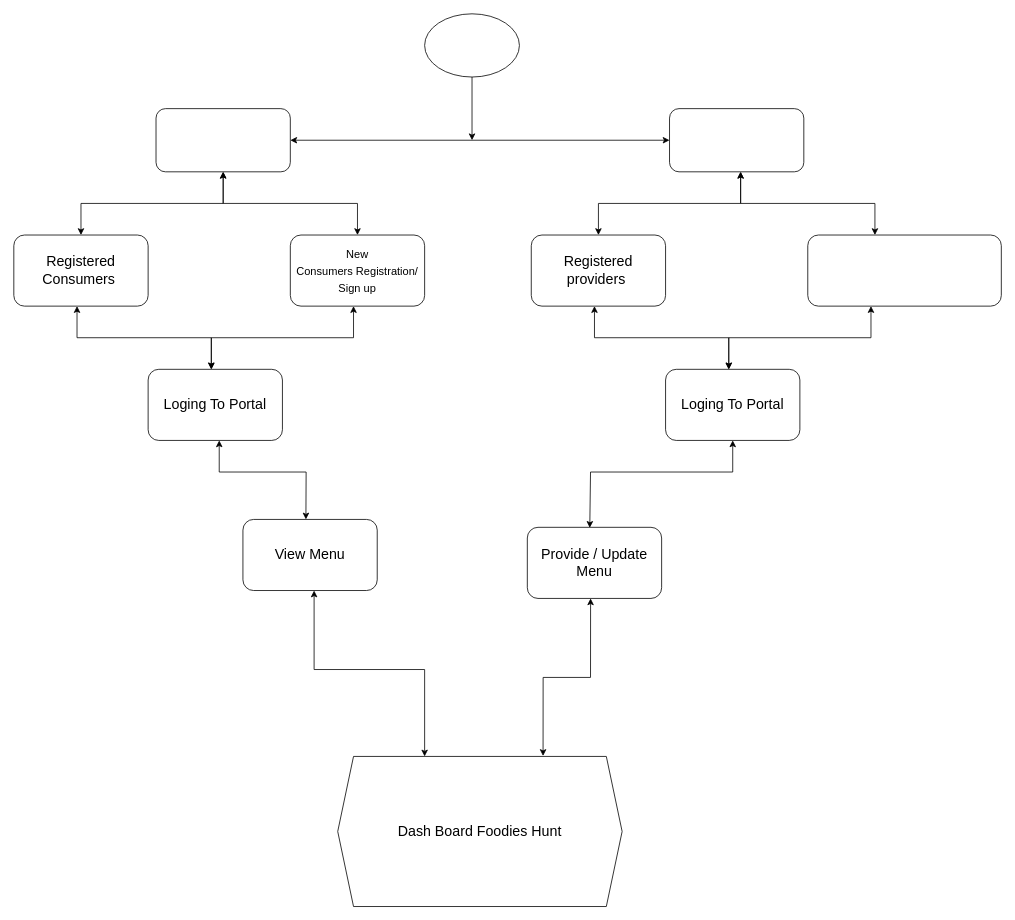
The diagram is 1015 pixels wide and 920 high, and some of its shapes have lost their labels. The box of each missing label's shape, as (x1, y1, x2, y2) in pixels:
Consumers: (155, 108, 290, 172)
Mess Owner/Provider: (669, 108, 804, 172)
New Owner/Provider Registration/ Sign up: (807, 234, 1001, 306)
User: (424, 13, 519, 77)
